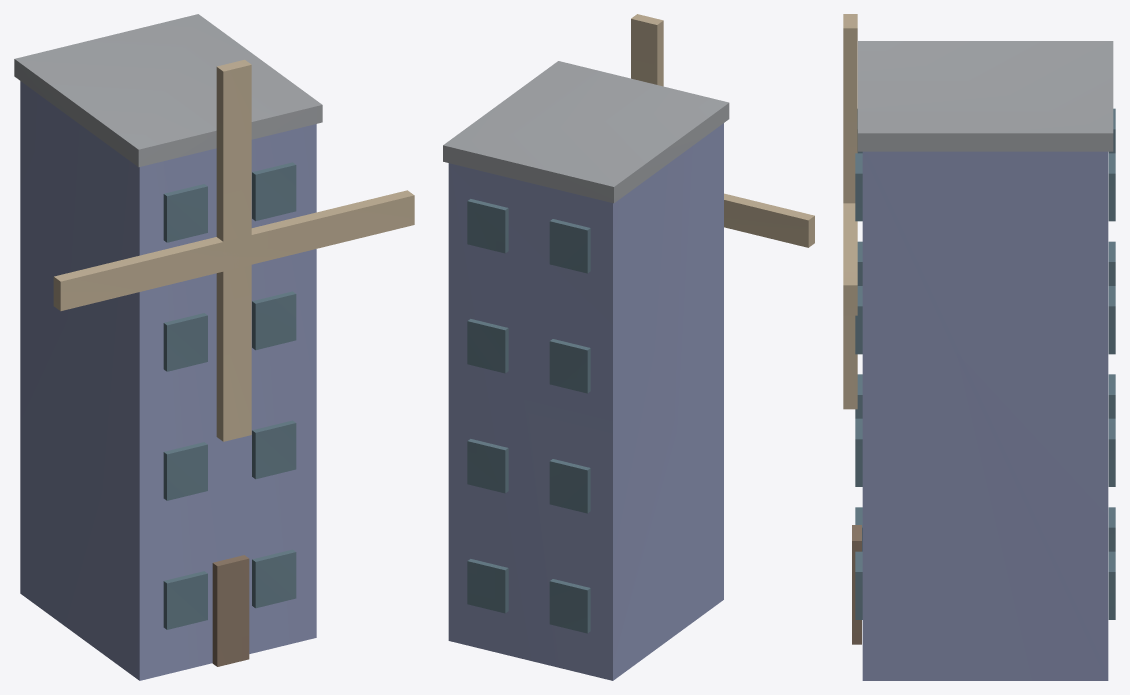
The model's file is windmill-03.glb.
3 renders of one model, left to right at view 1: azimuth 30°, elevation 25°; view 2: azimuth 150°, elevation 25°; view 3: azimuth 270°, elevation 25°, orthographic. The views are drawn at different scales.
Visible parts, largest first — view 1: world; view 2: world; view 3: world.
Boxes of the visible parts, x1,y1,x2,y2 form: world: [14, 14, 414, 680]; world: [443, 14, 814, 680]; world: [843, 14, 1115, 680].
Size of the model in its own units: 1.47 by 2.37 by 0.9521.
